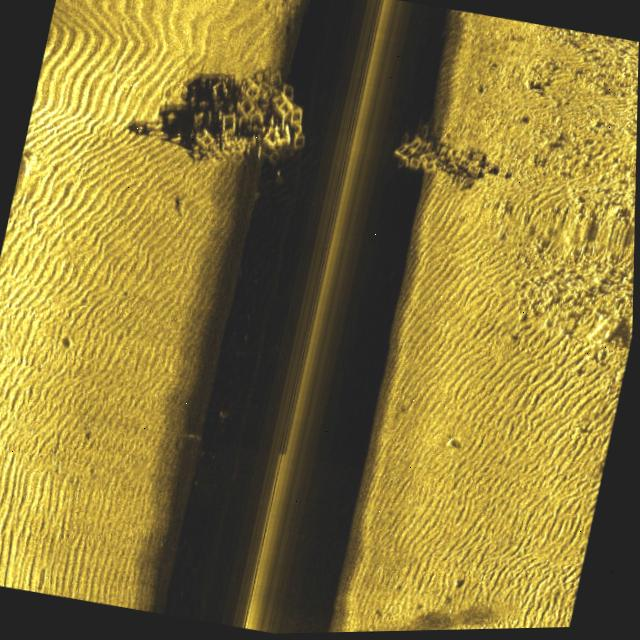artificial reef: (167, 50, 332, 202), (387, 114, 494, 205)
